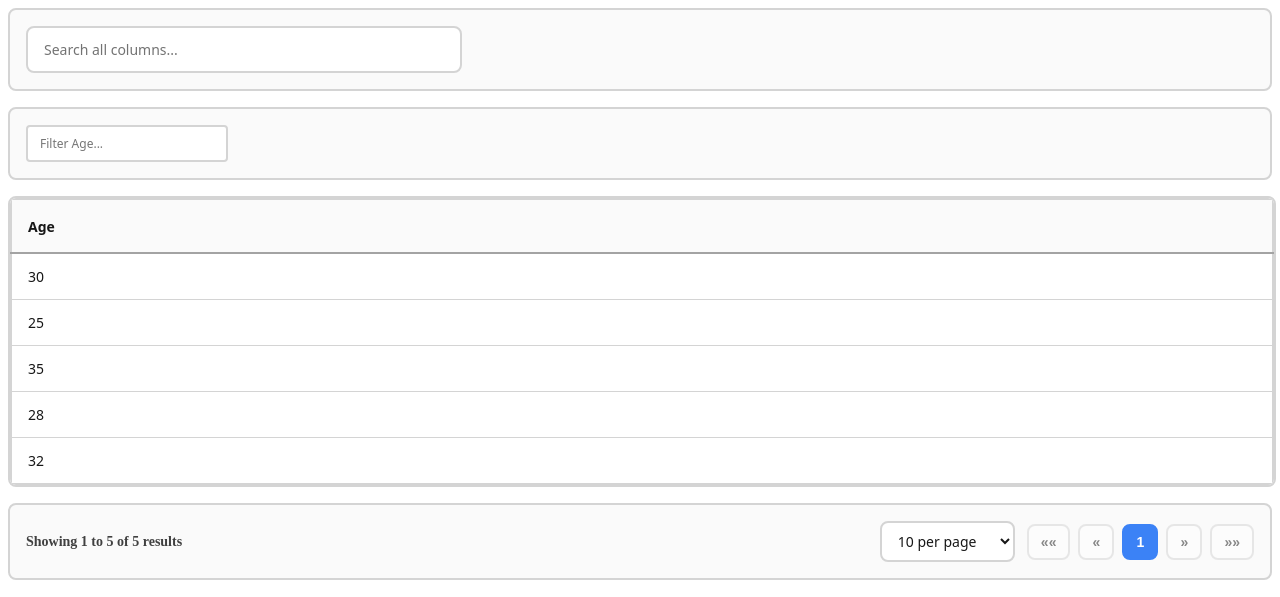
Test: DataTable › Filtering › handles custom filter function
Type "30" into the field with placeholder "Filter Age..." at (127, 144), box x1=26 y1=125 x2=228 y2=162
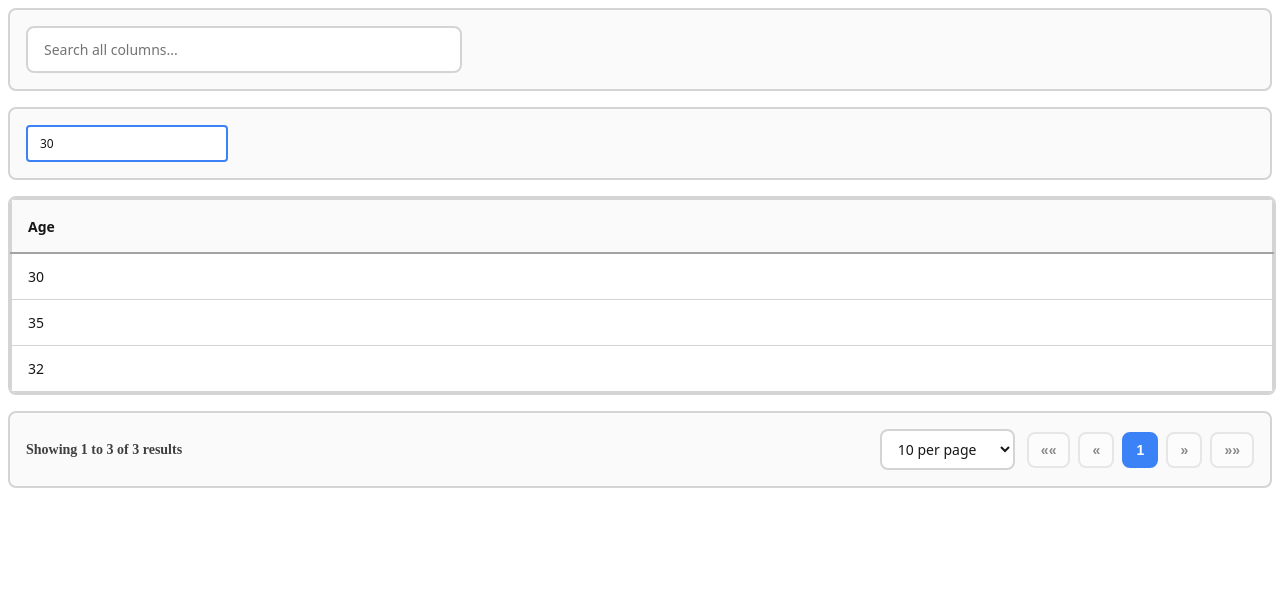
Expected: the text "30" is shown, x1=11 y1=253 x2=1273 y2=300
Expected: the text "25" is gone
